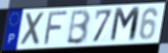6: (138, 6, 158, 41)
7: (93, 8, 115, 44)
B: (65, 9, 92, 46)
F: (42, 10, 70, 47)
M: (108, 6, 142, 45)
X: (19, 11, 47, 48)
